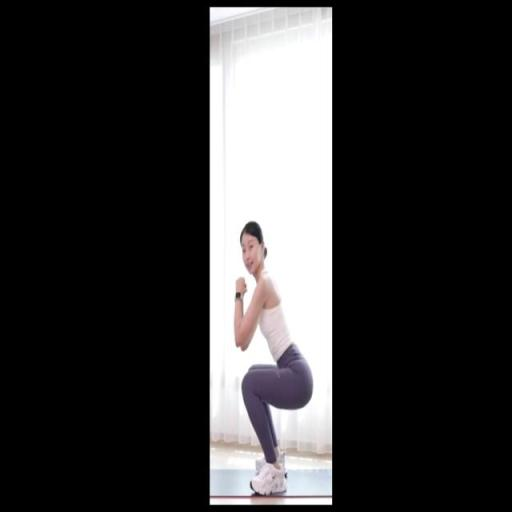Normal_BrenchPress: (232, 221, 314, 497)
